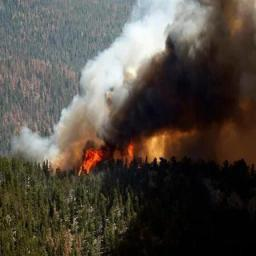Heavy smoke: (67, 5, 256, 139), (165, 127, 256, 164)
Large fire: (70, 138, 161, 182)
Low smoke: (9, 123, 50, 163)
